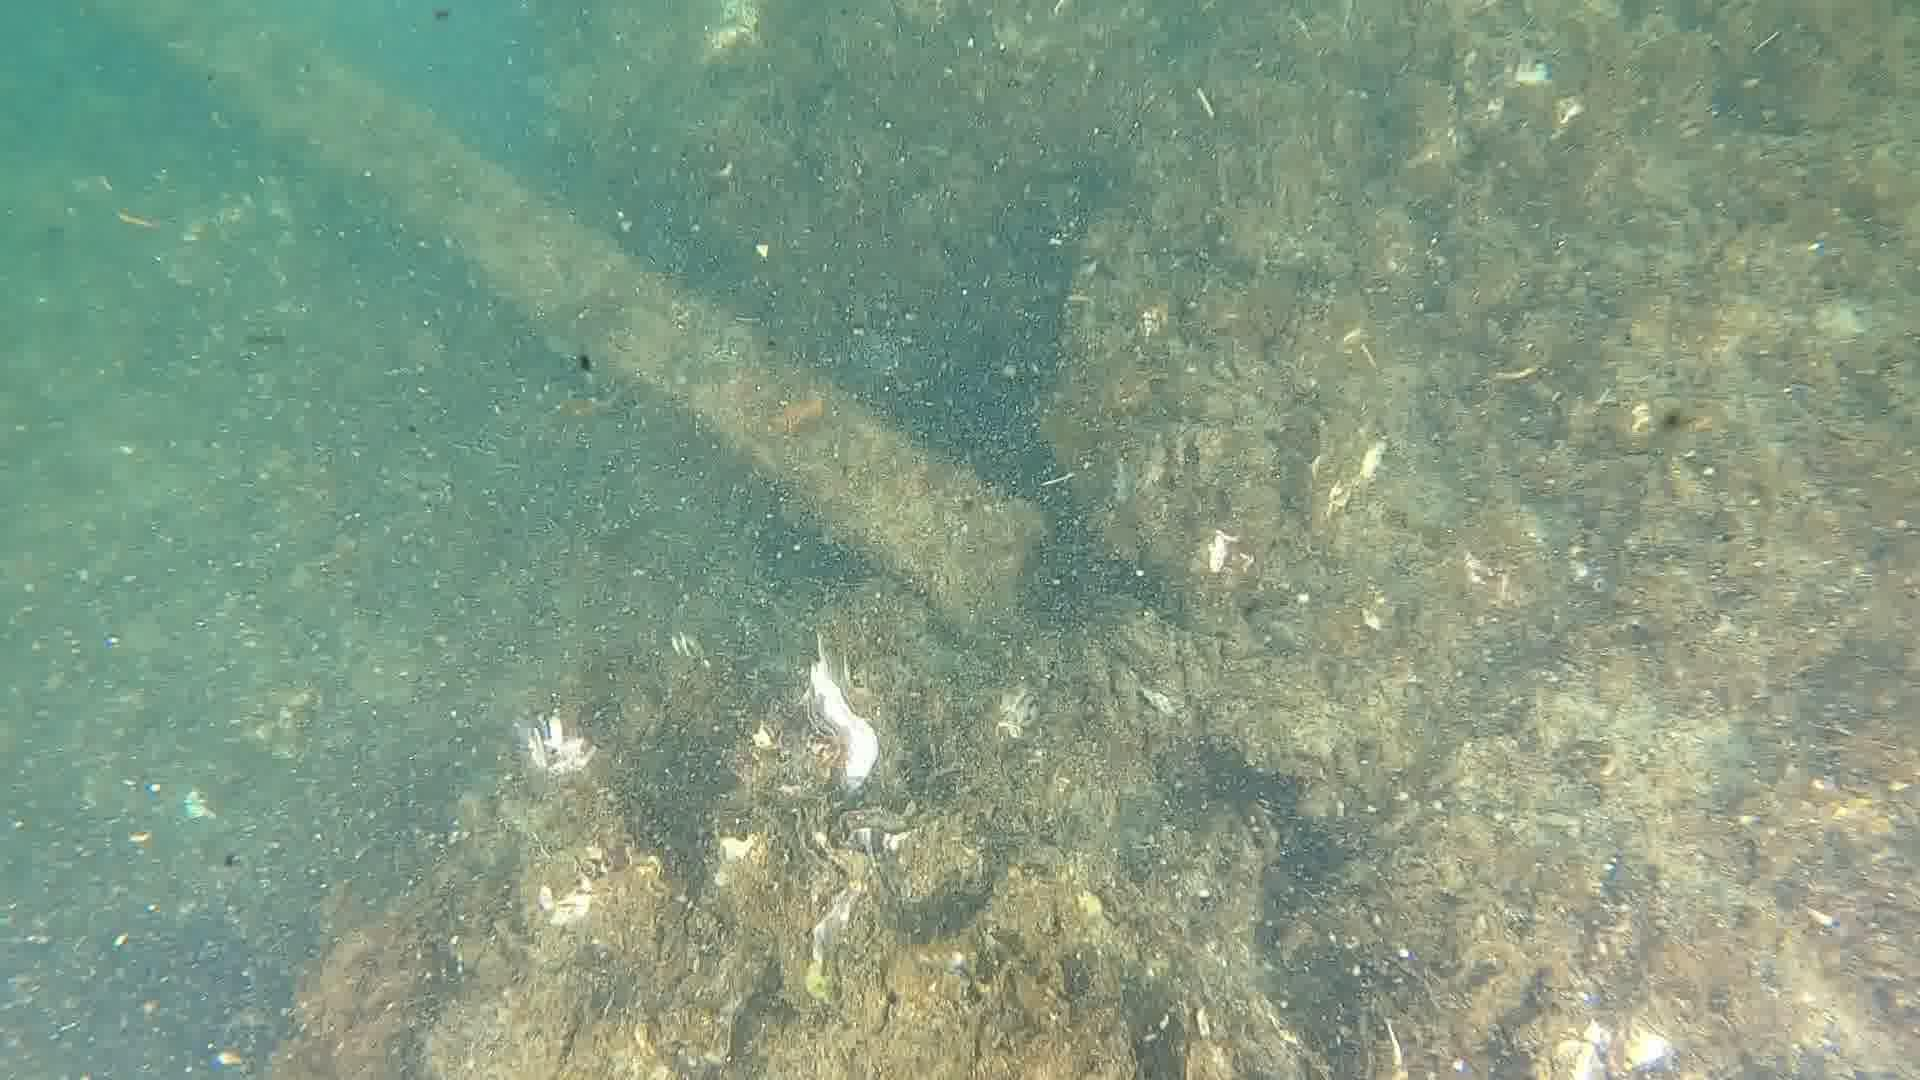wood: (112, 0, 1044, 657)
